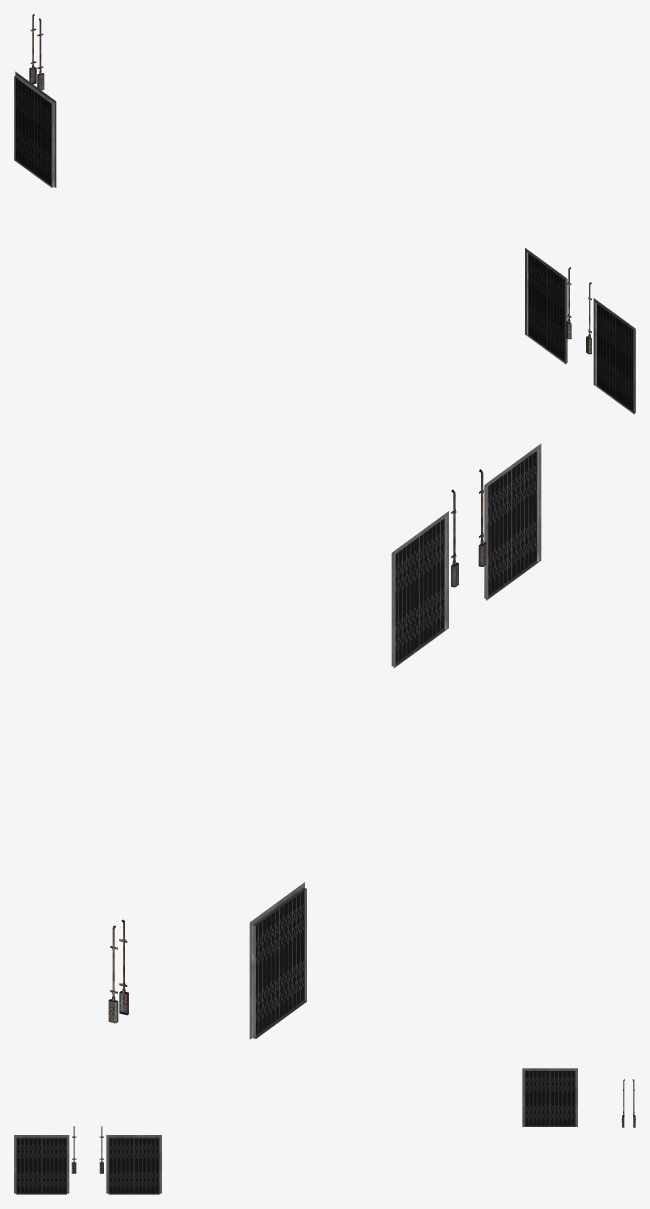
Rendered from elevator_doors.fbx.
3 renders of one model, top to bottom at view 1: azimuth 30°, elevation 25°; view 2: azimuth 150°, elevation 25°; view 3: azimuth 270°, elevation 25°, orthographic. The views are drawn at different scales.
Visible parts, largest first — view 1: elevator_doors; view 2: elevator_doors; view 3: elevator_doors.
Boxes of the visible parts, box(x1,y1,x2,y2) form: elevator_doors: box(14, 14, 635, 414); elevator_doors: box(108, 443, 541, 1039); elevator_doors: box(14, 1068, 635, 1194).
Size of the model in its own units: 7.14 by 3.28 by 27.45.
3 materials, 3 textured.
